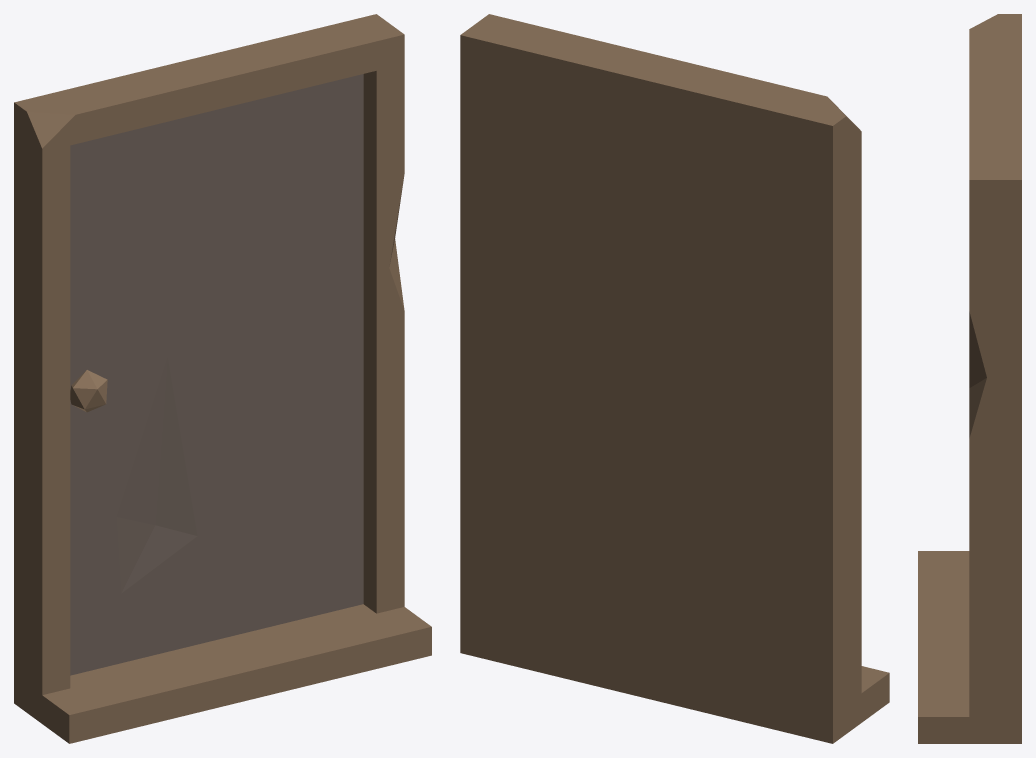
Rendered from LP_PostApoc_Door2.fbx.
3 renders of one model, left to right at view 1: azimuth 30°, elevation 25°; view 2: azimuth 150°, elevation 25°; view 3: azimuth 270°, elevation 25°, orthographic. The views are drawn at different scales.
Visible parts, largest first — view 1: Door2; view 2: Door2; view 3: Door2.
Boxes of the visible parts, left/top/right/bottom form: Door2: left=14, top=14, right=431, bottom=743; Door2: left=460, top=14, right=889, bottom=743; Door2: left=918, top=14, right=1021, bottom=743.
Bounding box in the file's own units: 131 × 207 × 34.52.
